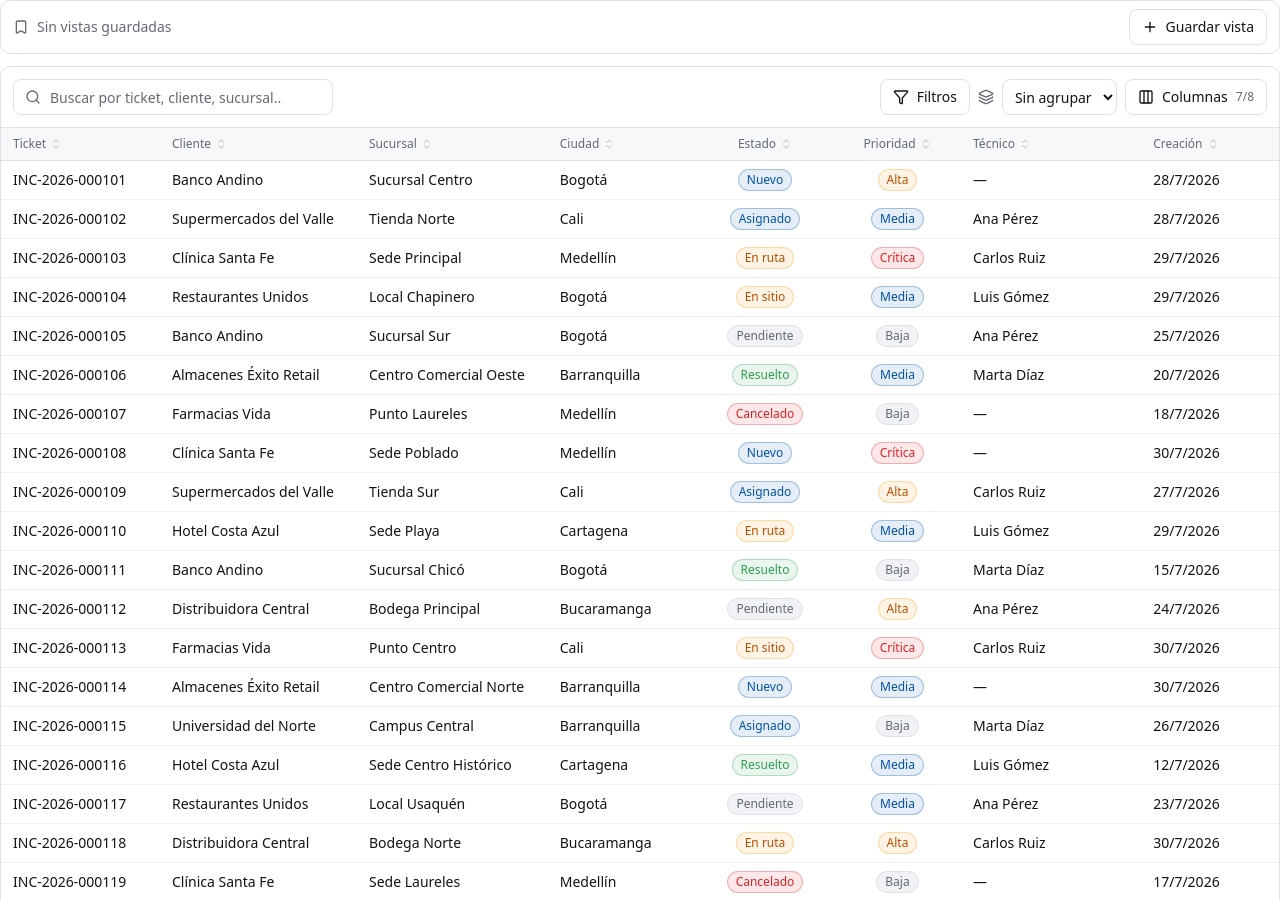
Scenario: Tickets con AdvancedTable › abre el panel de columnas en lugar del desplegable
Step 1. Click the button with aria-label "Columnas," → (1196, 97), box [1125,79,1267,115]
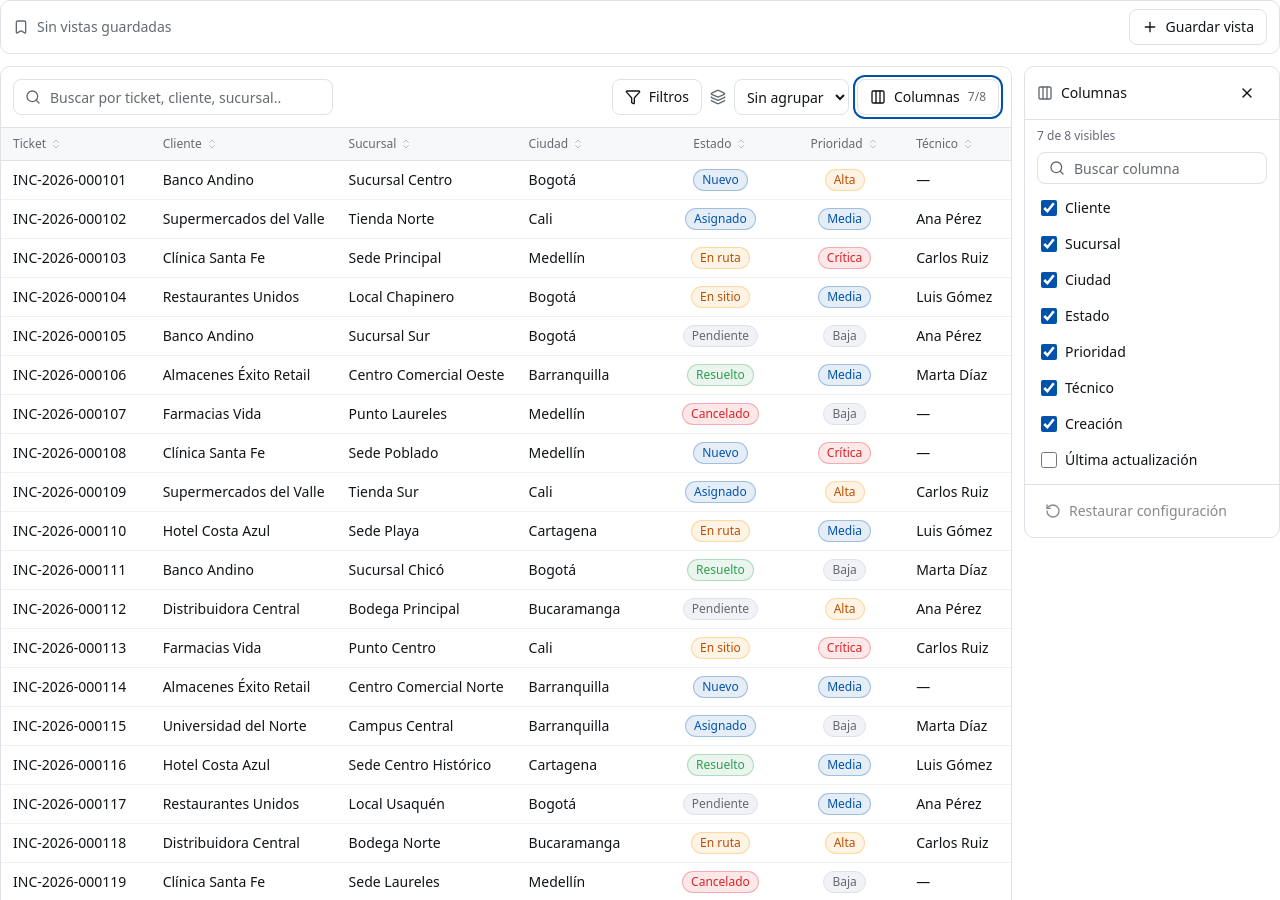
Expected: the element named "Configuración de columnas" is shown, [1024,66,1279,538]
